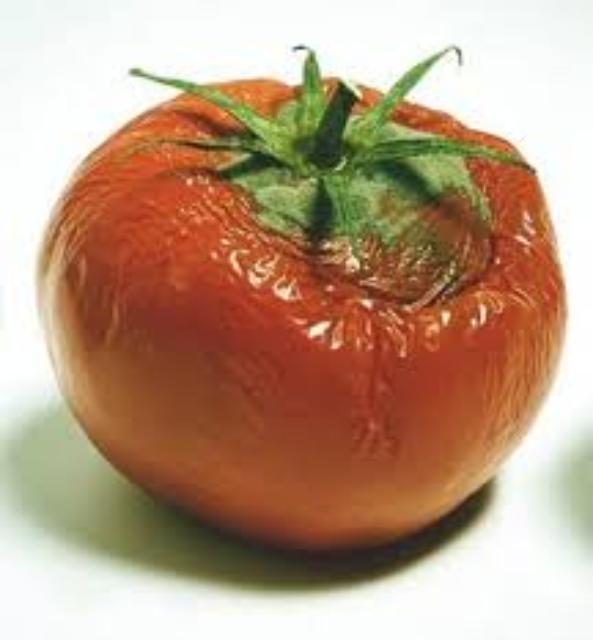defect: (34, 36, 572, 561)
